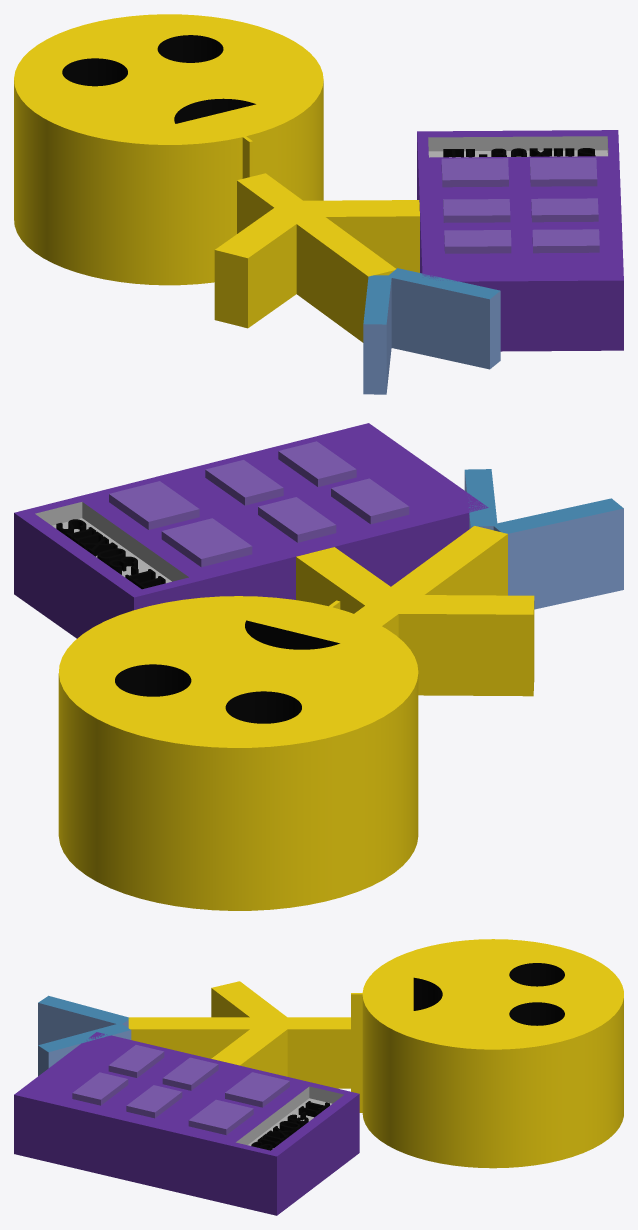
Rendered from TeaganSchroeder.gltf.
3 views of the same model, one above another, from view 1: azimuth 30°, elevation 25°; view 2: azimuth 150°, elevation 25°; view 3: azimuth 270°, elevation 25° (orthographic). The views are drawn at different scales.
Visible parts, largest first — view 1: mesh240_mesh_3, mesh240_mesh_5, mesh24_mesh_5, mesh24_mesh_3, mesh0_mesh_9, mesh14_mesh_3, mesh240_mesh_6, mesh0_mesh, mesh0_mesh_11, mesh0_mesh_3, mesh240_mesh_4, mesh24_mesh_7 (+17 smaller); view 2: mesh240_mesh_4, mesh240_mesh_3, mesh24_mesh_5, mesh0_mesh_13, mesh14_mesh_9, mesh0_mesh_9, mesh24_mesh_2, mesh24_mesh_1, mesh240_mesh_5, mesh14_mesh_5, mesh0_mesh, mesh24_mesh_19 (+11 smaller); view 3: mesh240_mesh_3, mesh24_mesh, mesh240_mesh_6, mesh240_mesh_4, mesh24_mesh_5, mesh0_mesh_9, mesh24_mesh_1, mesh0_mesh_6, mesh0_mesh_2, mesh14_mesh_7, mesh14_mesh_5, mesh240_mesh_7 (+15 smaller).
Part boxes in pixels (x1,y1,x2,y2): mesh240_mesh_3: [14, 14, 323, 144]; mesh240_mesh_5: [34, 112, 242, 285]; mesh24_mesh_5: [417, 130, 623, 281]; mesh24_mesh_3: [460, 280, 623, 351]; mesh0_mesh_9: [215, 173, 419, 276]; mesh14_mesh_3: [391, 278, 489, 369]; mesh240_mesh_6: [246, 81, 323, 200]; mesh0_mesh: [296, 224, 368, 342]; mesh0_mesh_11: [248, 224, 296, 327]; mesh0_mesh_3: [326, 216, 419, 272]; mesh240_mesh_4: [14, 80, 34, 252]; mesh24_mesh_7: [428, 136, 607, 151]; mesh240_mesh_4: [58, 674, 394, 910]; mesh240_mesh_3: [58, 596, 418, 747]; mesh24_mesh_5: [14, 423, 488, 597]; mesh0_mesh_13: [398, 614, 533, 696]; mesh14_mesh_9: [508, 508, 623, 609]; mesh0_mesh_9: [296, 526, 534, 625]; mesh24_mesh_2: [134, 513, 469, 609]; mesh24_mesh_1: [14, 513, 133, 638]; mesh240_mesh_5: [394, 674, 418, 872]; mesh14_mesh_5: [464, 469, 623, 533]; mesh0_mesh: [425, 534, 507, 595]; mesh24_mesh_19: [162, 518, 251, 558]; mesh240_mesh_3: [351, 939, 623, 1049]; mesh24_mesh: [14, 1095, 276, 1215]; mesh240_mesh_6: [362, 997, 493, 1168]; mesh240_mesh_4: [493, 998, 623, 1168]; mesh24_mesh_5: [14, 1032, 359, 1156]; mesh0_mesh_9: [128, 981, 350, 1065]; mesh24_mesh_1: [277, 1094, 359, 1215]; mesh0_mesh_6: [287, 1029, 350, 1088]; mesh0_mesh_2: [130, 1029, 249, 1058]; mesh14_mesh_7: [38, 1003, 115, 1045]; mesh14_mesh_5: [38, 995, 130, 1052]; mesh240_mesh_7: [351, 994, 362, 1112].
Size of the model in its own units: 0.1726 by 0.0508 by 0.2369.
